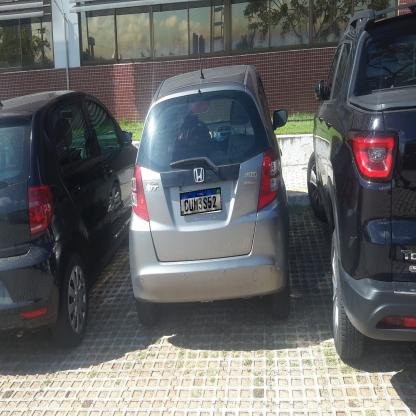PlacaM: (180, 187, 222, 216)
